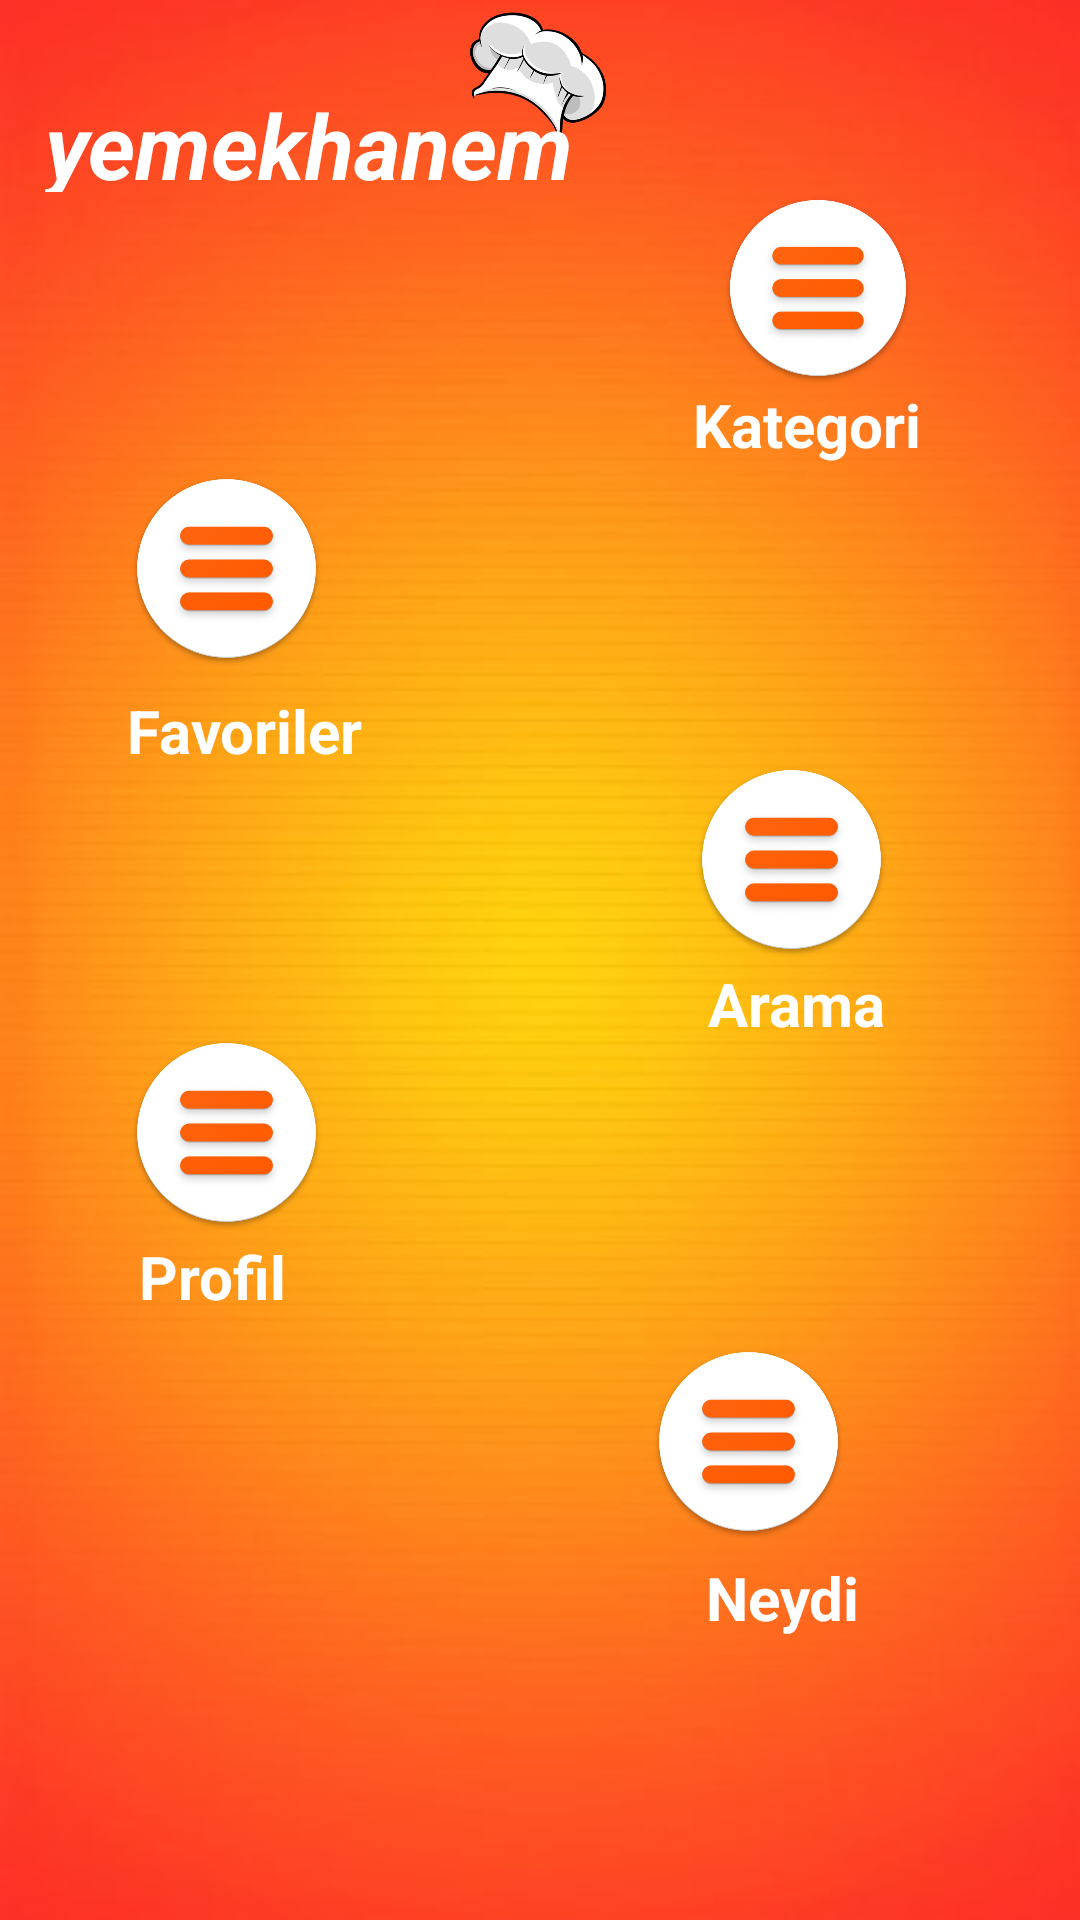

Screen size 1080×1920. Icon name, then its center in pixels as [x,y]:
hatchef: [532,76]
